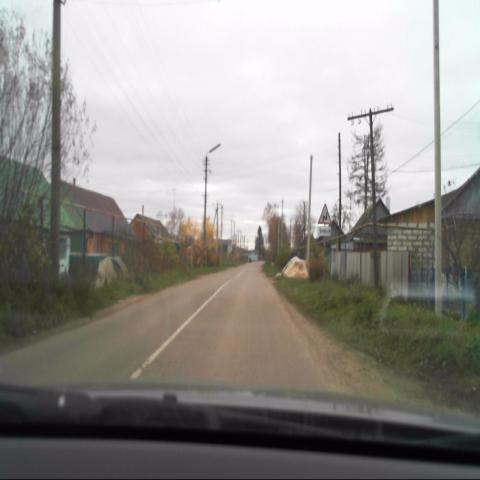1_12: (318, 203, 330, 224)
